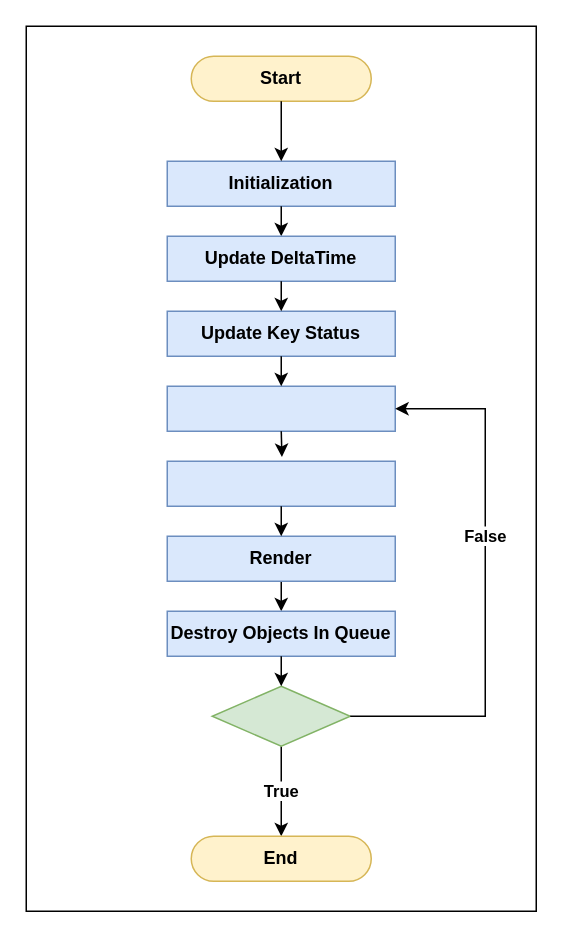
This 563x938 diagram has some shape labels left out. The shapes that lost their labels are listed below. From the top down, each one's centre as x and y in pixels, then its label:
(280,408): Update Game Logic
(280,483): Update Physics
(280,715): Window closed?
